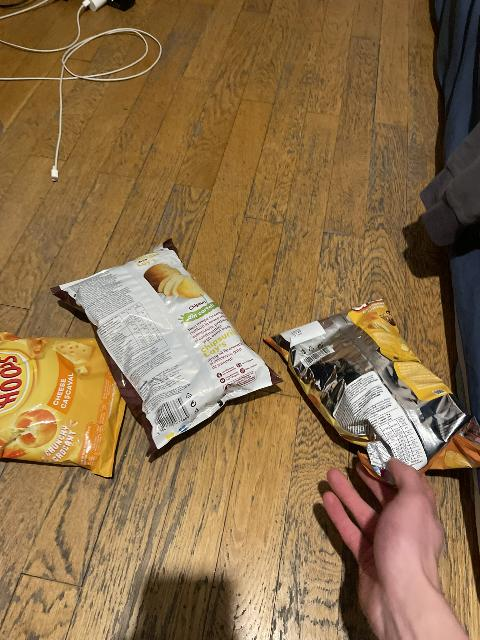Chio Cascaval 125g: (261, 295, 480, 477)
Chio Hula Hoops Cheese 70g: (0, 336, 124, 476)
Lays Beef Grilled Ribs 125g: (53, 249, 284, 445)
